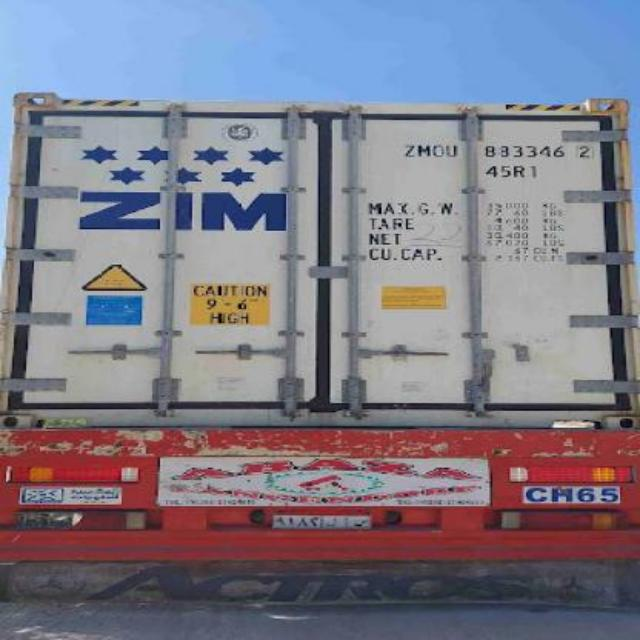2: (568, 136, 596, 160)
3: (526, 142, 540, 160), (512, 143, 526, 159)
4: (536, 139, 550, 163)
6: (550, 140, 566, 163)
8: (474, 142, 494, 160), (498, 142, 512, 160)
M: (414, 142, 430, 158)
O: (431, 140, 444, 160)
U: (442, 138, 460, 158)
Z: (396, 140, 416, 160)
